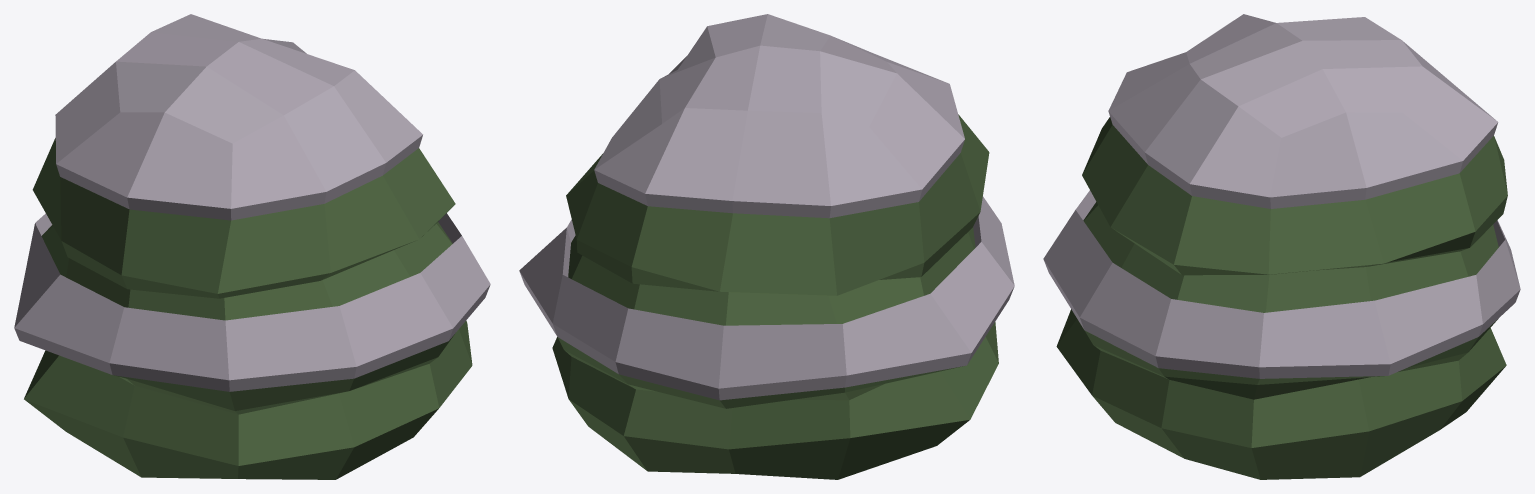
The model's file is Bush_Snow_2.gltf.
The picture shows the model from 3 angles, left to right: view 1: azimuth 30°, elevation 25°; view 2: azimuth 150°, elevation 25°; view 3: azimuth 270°, elevation 25°; orthographic projection. The views are drawn at different scales.
Parts seen in each view (by area): view 1: Bush_Snow_2; view 2: Bush_Snow_2; view 3: Bush_Snow_2.
Boxes of the visible parts, box(x1,y1,x2,y2) form: Bush_Snow_2: box(14, 14, 490, 479); Bush_Snow_2: box(519, 14, 1014, 479); Bush_Snow_2: box(1043, 14, 1520, 479).
Size of the model in its own units: 1.36 by 1.16 by 1.36.
